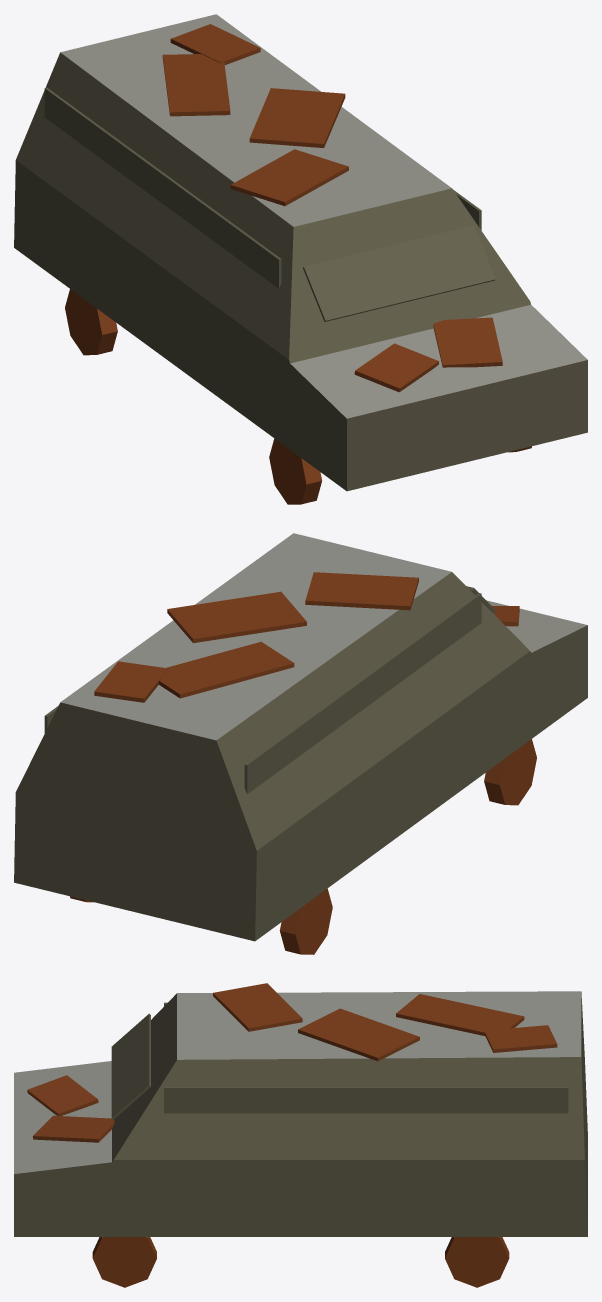
Rendered from SM_CocheCivil_Todoterreno_v4_LOD0.fbx.
3 renders of one model, top to bottom at view 1: azimuth 30°, elevation 25°; view 2: azimuth 150°, elevation 25°; view 3: azimuth 270°, elevation 25°, orthographic. The views are drawn at different scales.
Parts seen in each view (by area): view 1: SM_coche_civil_v19_LOD0; view 2: SM_coche_civil_v19_LOD0; view 3: SM_coche_civil_v19_LOD0.
Boxes of the visible parts, box(x1,y1,x2,y2) form: SM_coche_civil_v19_LOD0: box(14, 14, 587, 504); SM_coche_civil_v19_LOD0: box(14, 533, 587, 954); SM_coche_civil_v19_LOD0: box(14, 983, 587, 1287).
Size of the model in its own units: 1.84 by 1.86 by 4.4.
